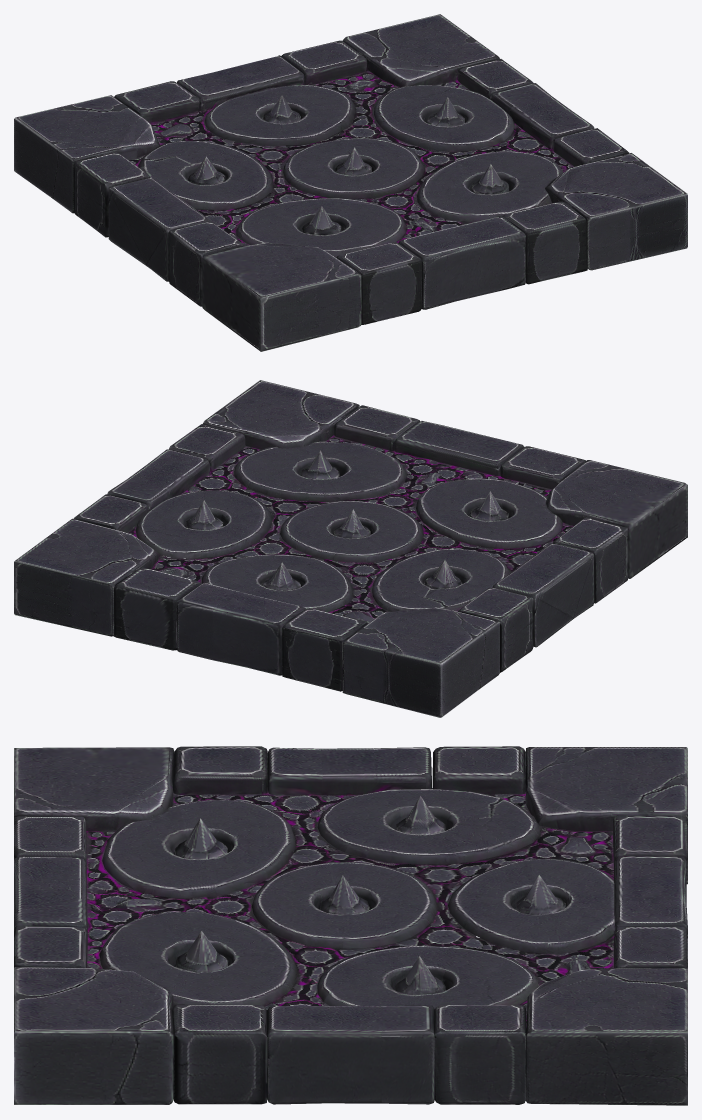
Rendered from spike_armed.glb.
3 views of the same model, one above another, from view 1: azimuth 30°, elevation 25°; view 2: azimuth 150°, elevation 25°; view 3: azimuth 270°, elevation 25° (orthographic). The views are drawn at different scales.
Size of the model in its own units: 1 by 0.1475 by 1.
1 material, 1 textured.
